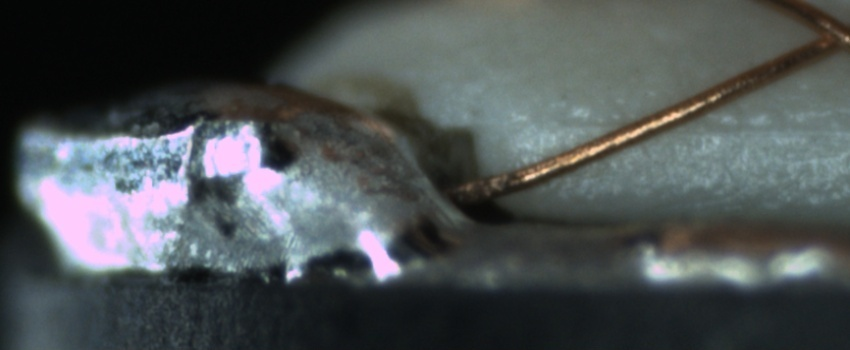CL: (792, 5, 848, 63)
DL: (537, 97, 850, 153)
